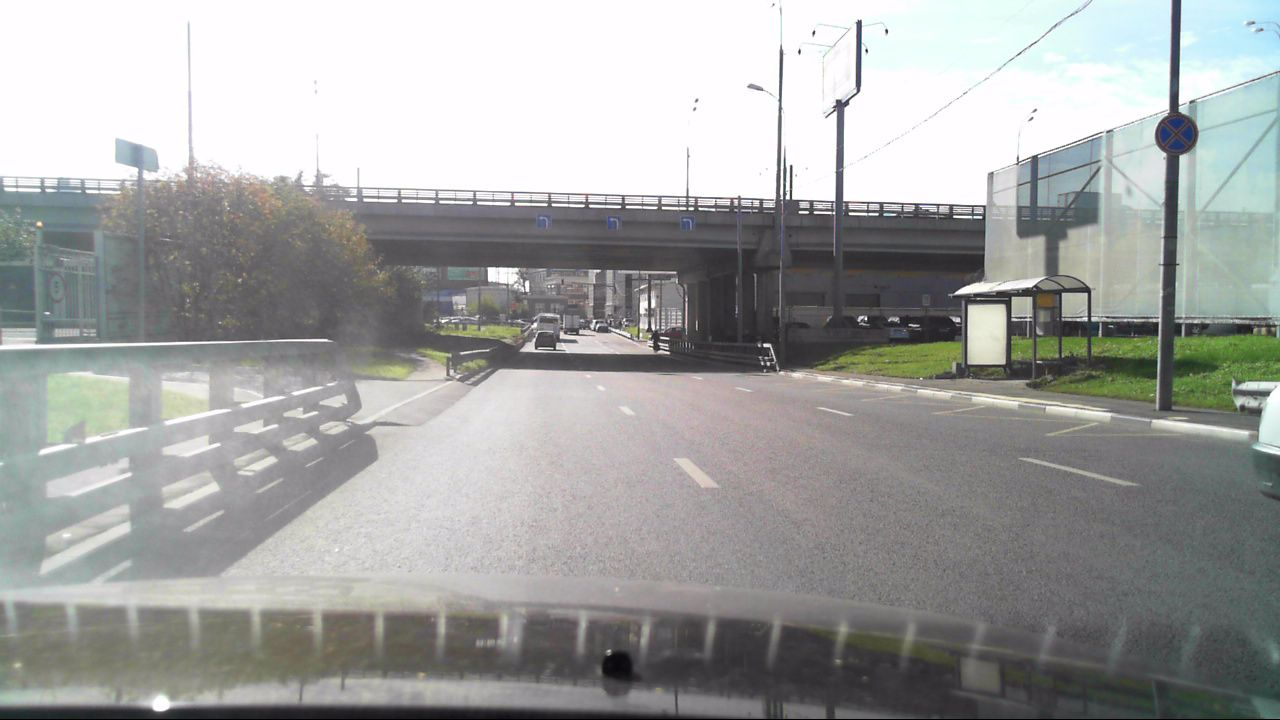No Parking: (1154, 113, 1201, 157)
